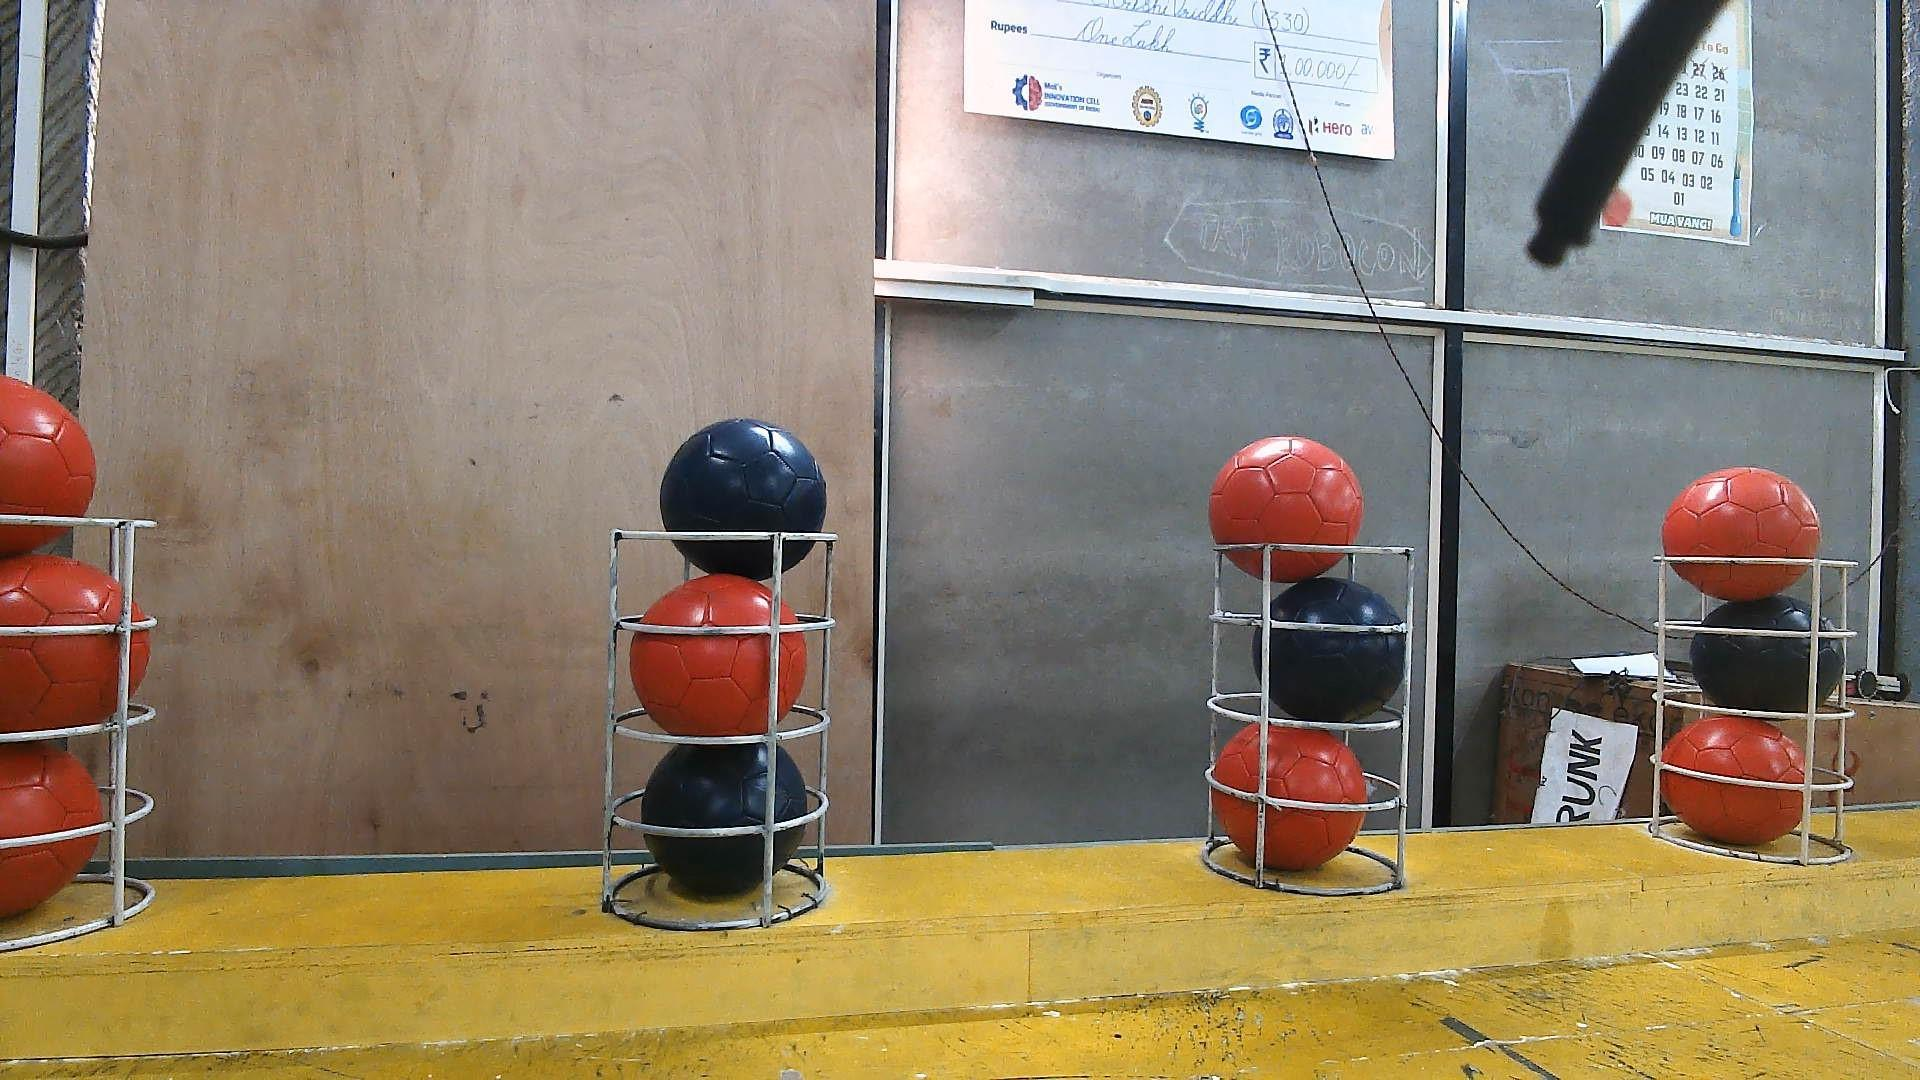dhoka: (659, 419, 828, 582), (637, 742, 810, 897), (1253, 578, 1406, 724), (1688, 592, 1845, 716)
laale: (630, 574, 806, 738), (0, 555, 150, 733), (1208, 435, 1365, 583), (1212, 724, 1369, 870), (1662, 468, 1822, 600), (1658, 716, 1808, 844), (0, 742, 105, 916)
